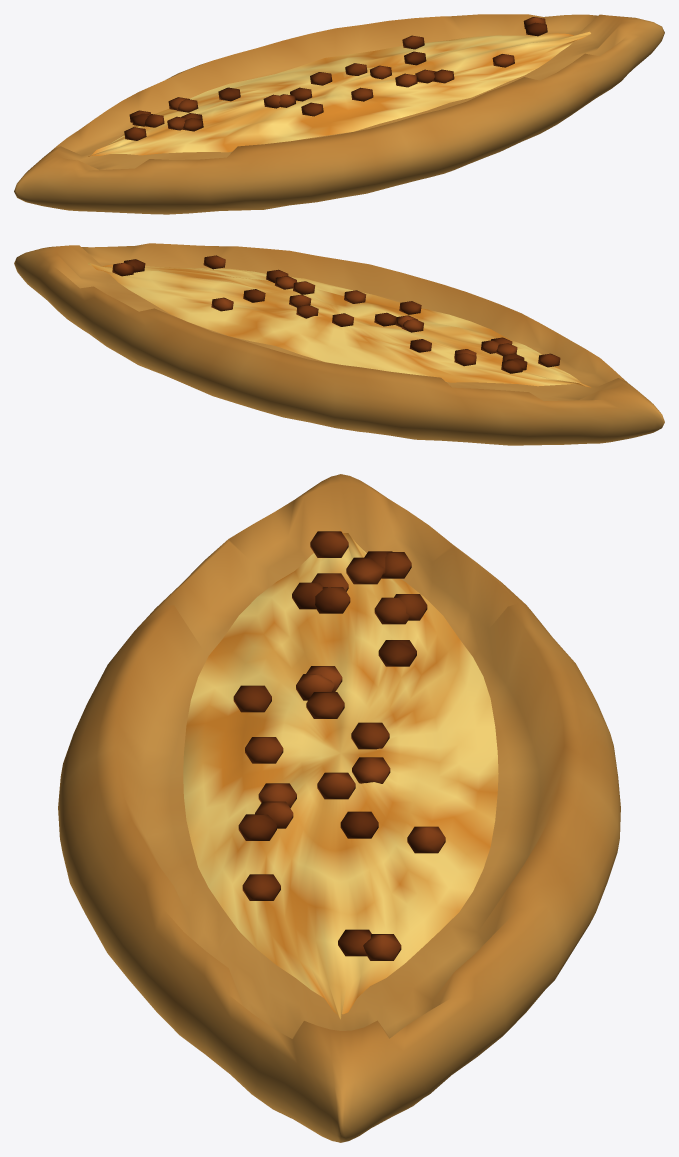
The model's file is pie-boat.glb.
3 renders of one model, top to bottom at view 1: azimuth 30°, elevation 25°; view 2: azimuth 150°, elevation 25°; view 3: azimuth 270°, elevation 25°, orthographic. The views are drawn at different scales.
Visible parts, largest first — view 1: pie-boat; view 2: pie-boat; view 3: pie-boat.
Boxes of the visible parts, <box> form: pie-boat: <box>14,14,664,214</box>; pie-boat: <box>14,243,664,445</box>; pie-boat: <box>58,474,620,1142</box>.
Size of the model in its own units: 0.2403 by 0.0323 by 0.09.
